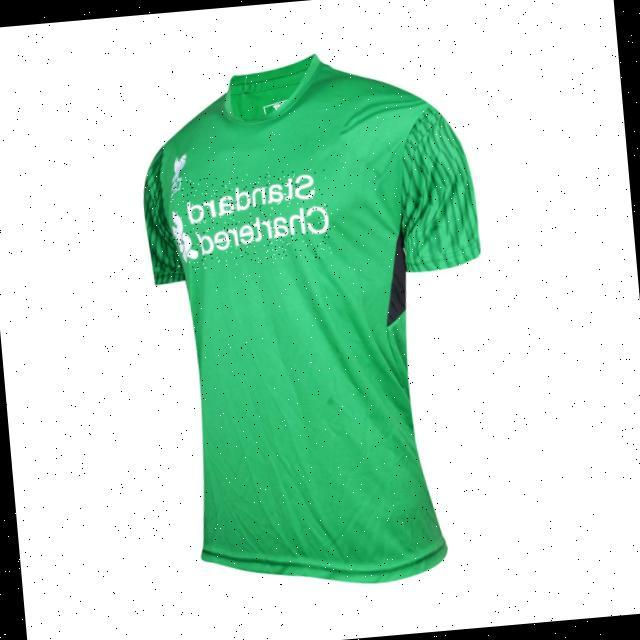Standard Chartered: (167, 167, 333, 271)
